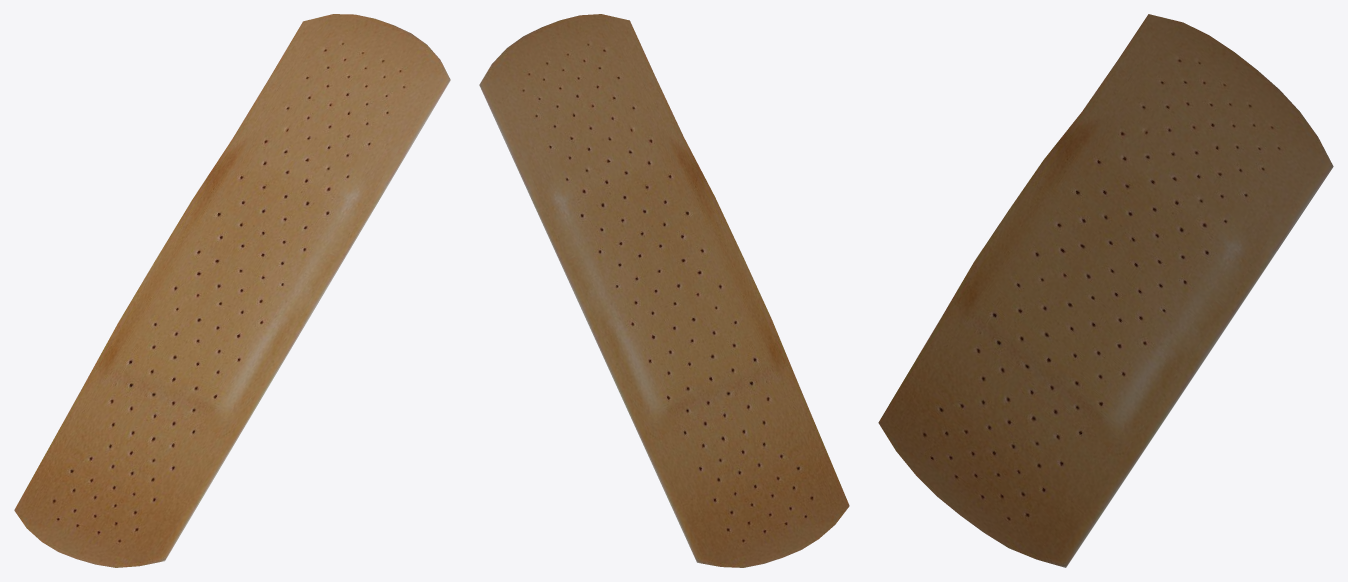
The picture shows the model from 3 angles, left to right: view 1: azimuth 30°, elevation 25°; view 2: azimuth 150°, elevation 25°; view 3: azimuth 330°, elevation 25°; orthographic projection. The views are drawn at different scales.
Parts seen in each view (by area): view 1: BandAid Rug; view 2: BandAid Rug; view 3: BandAid Rug.
Part boxes in pixels (x1,y1,x2,y2): BandAid Rug: [14, 14, 450, 567]; BandAid Rug: [479, 14, 849, 567]; BandAid Rug: [878, 14, 1333, 567].
Bounding box in the file's own units: 0.9161 × 1.12 × 0.1236.
Materials: 1 (1 with a texture image).
